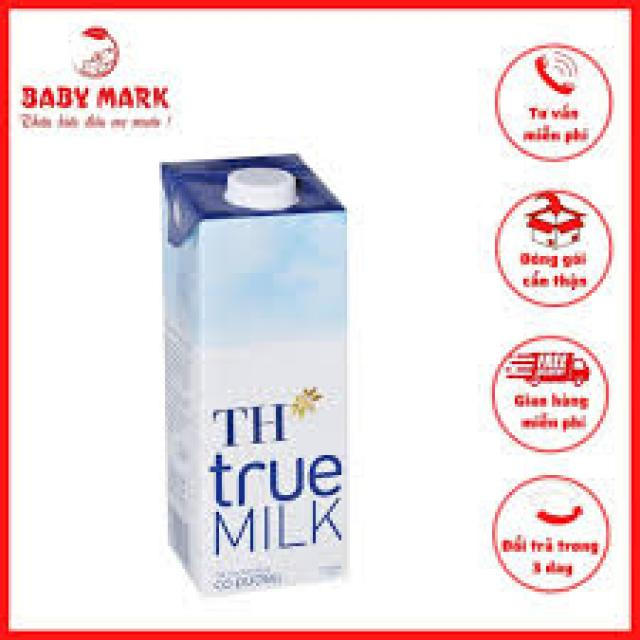non_white_jug: (140, 124, 360, 598)
